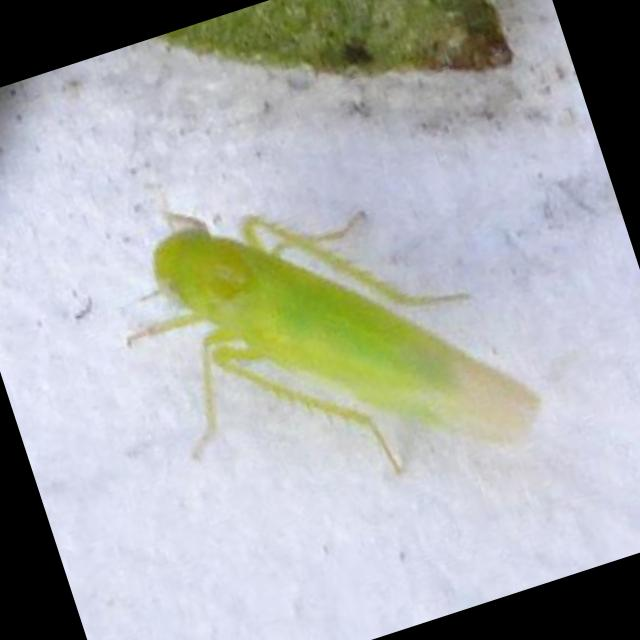green-leafhopper: (111, 128, 554, 548)
